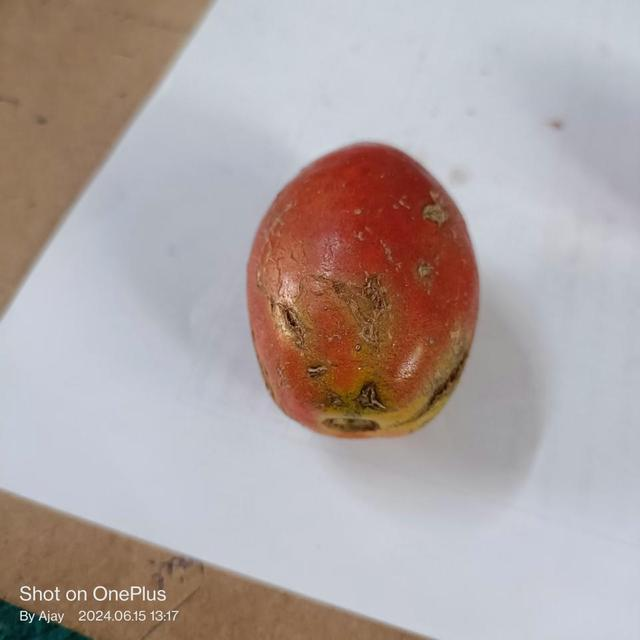Bacterial Spot Fruit: (10, 11, 290, 266)
